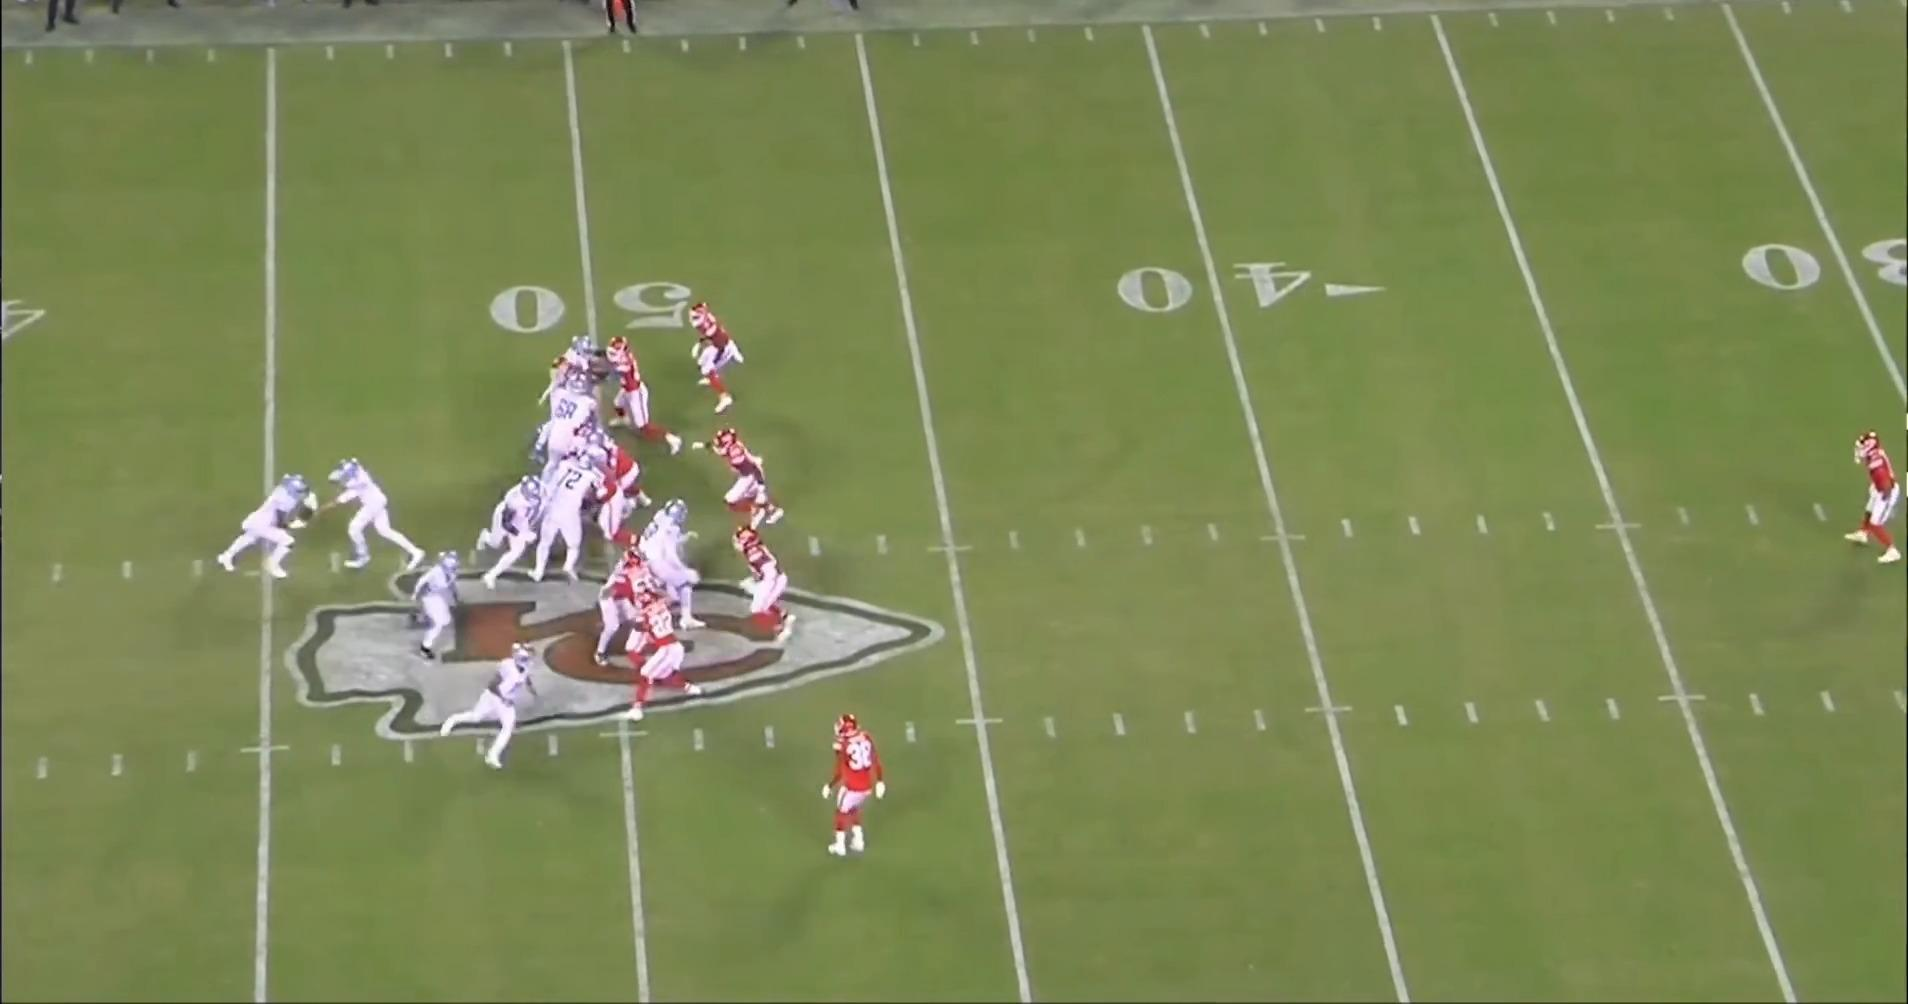player: (432, 642, 538, 776), (324, 452, 428, 576), (220, 475, 325, 584), (824, 710, 896, 868), (591, 338, 681, 459), (468, 475, 553, 597), (534, 456, 608, 596), (624, 593, 701, 727), (639, 496, 706, 632), (1845, 428, 1906, 566), (716, 432, 789, 541), (404, 545, 467, 669), (689, 296, 753, 417), (588, 415, 661, 519), (537, 387, 601, 504), (596, 548, 654, 671), (739, 532, 800, 639), (585, 448, 636, 564), (546, 376, 598, 478), (615, 553, 653, 671), (541, 335, 598, 413), (549, 356, 581, 388)
